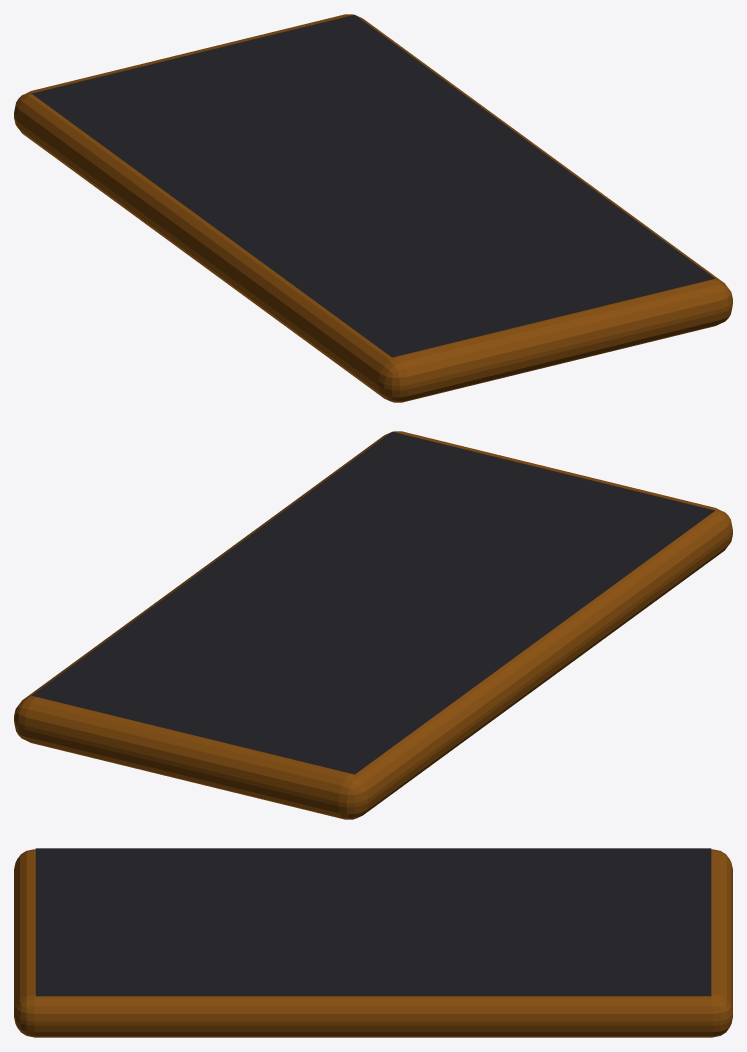
Rendered from oneplus-number-series-model-275-mid-range-2022.glb.
The picture shows the model from 3 angles, top to bottom: view 1: azimuth 30°, elevation 25°; view 2: azimuth 150°, elevation 25°; view 3: azimuth 270°, elevation 25°; orthographic projection. The views are drawn at different scales.
Visible parts, largest first — view 1: Phone_Screen, Phone_Body; view 2: Phone_Screen, Phone_Body; view 3: Phone_Screen, Phone_Body.
Boxes of the visible parts, <box> form: Phone_Screen: <box>31,14,714,357</box>; Phone_Body: <box>14,14,732,402</box>; Phone_Screen: <box>32,431,715,774</box>; Phone_Body: <box>14,431,732,819</box>; Phone_Screen: <box>35,848,711,996</box>; Phone_Body: <box>14,849,732,1037</box>.
Size of the model in its own units: 0.0757 by 0.0091 by 0.1431.
